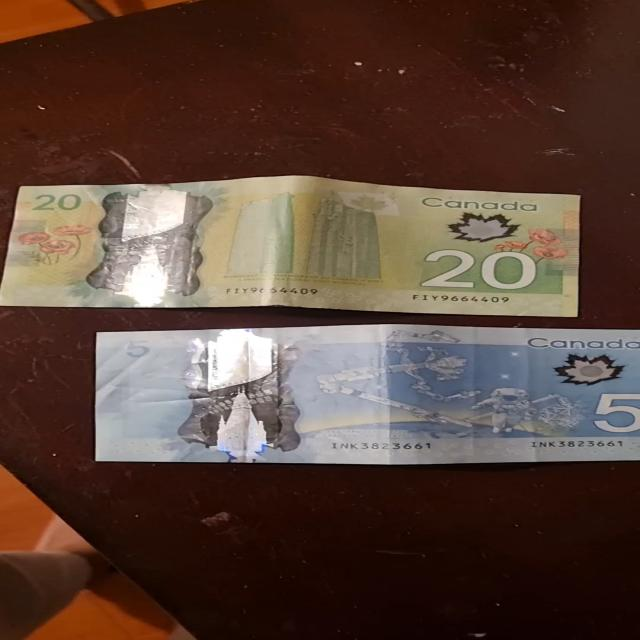20 cad: (16, 185, 586, 312)
5 cad: (99, 333, 640, 461)
